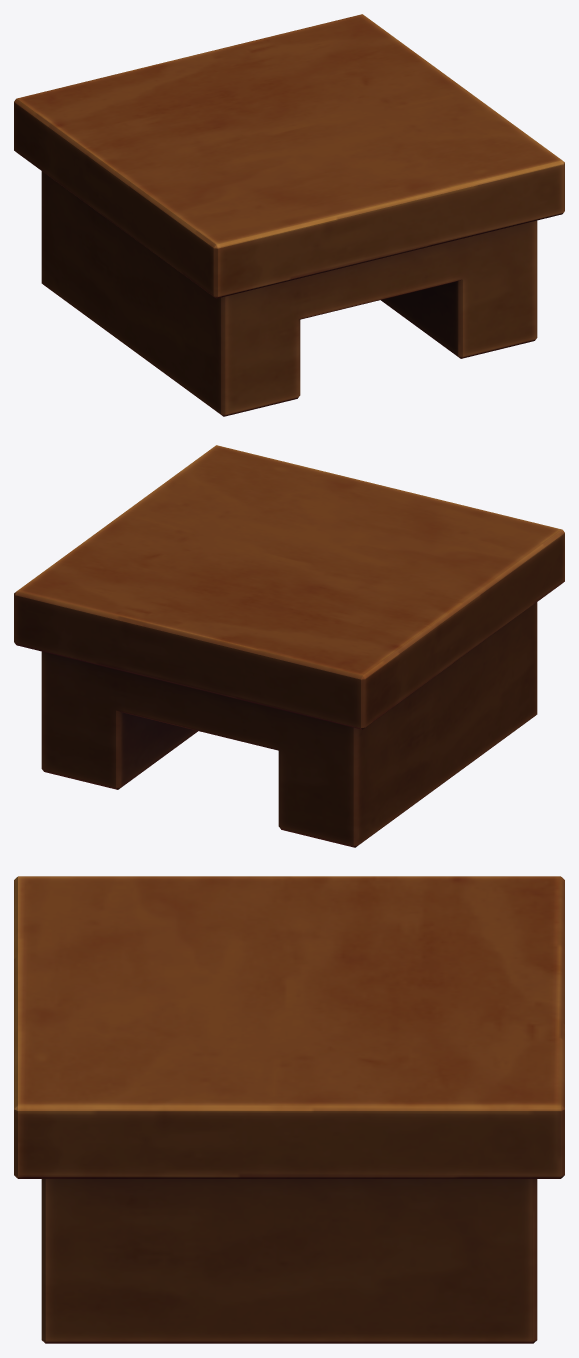
3 renders of one model, top to bottom at view 1: azimuth 30°, elevation 25°; view 2: azimuth 150°, elevation 25°; view 3: azimuth 270°, elevation 25°, orthographic. The views are drawn at different scales.
Parts seen in each view (by area): view 1: table; view 2: table; view 3: table.
Part boxes in pixels (x1=…): table: x1=14, y1=14, x2=564, y2=416; table: x1=14, y1=445, x2=564, y2=847; table: x1=14, y1=876, x2=564, y2=1343.
Bounding box in the file's own units: 2 × 1 × 2.
Materials: 1 (1 with a texture image).
